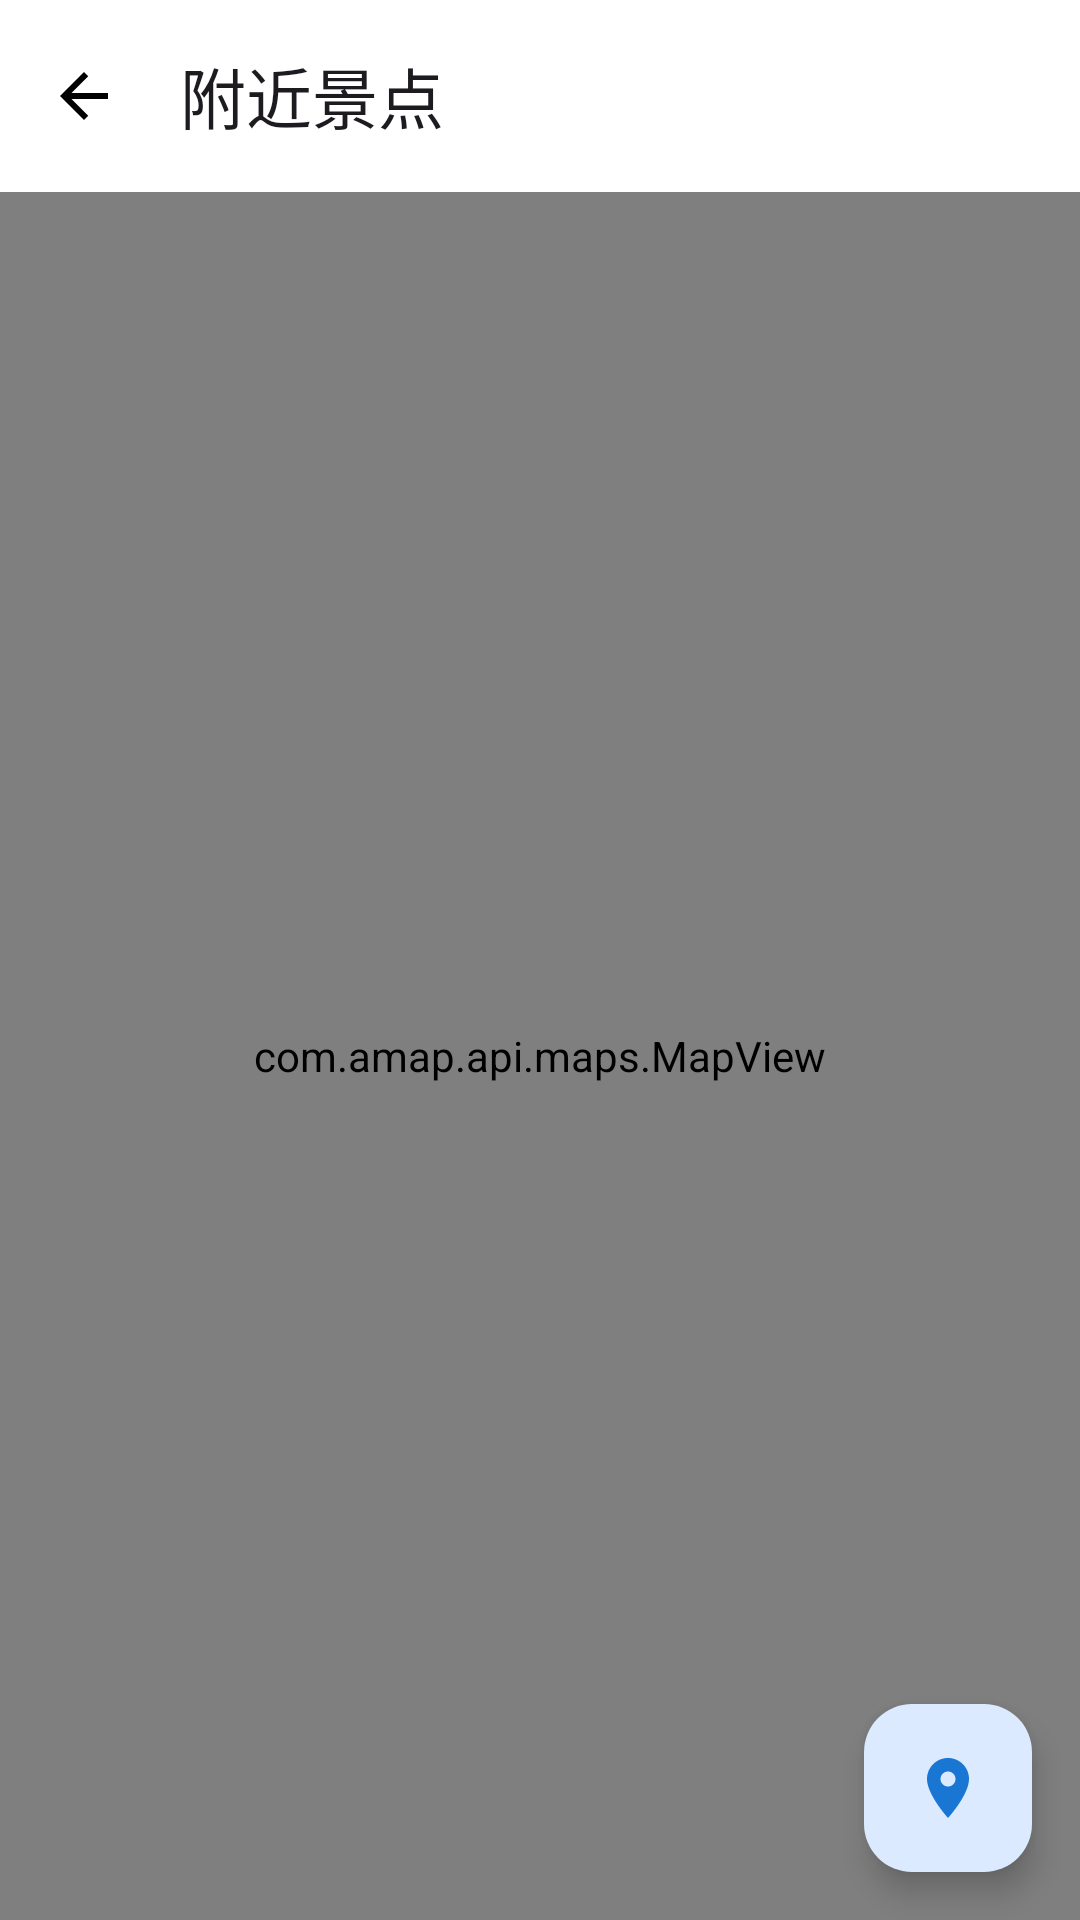

Icon click points for this 1080 × 1920 phone screenshot, format [x,y]:
我的位置: [948,1788]
